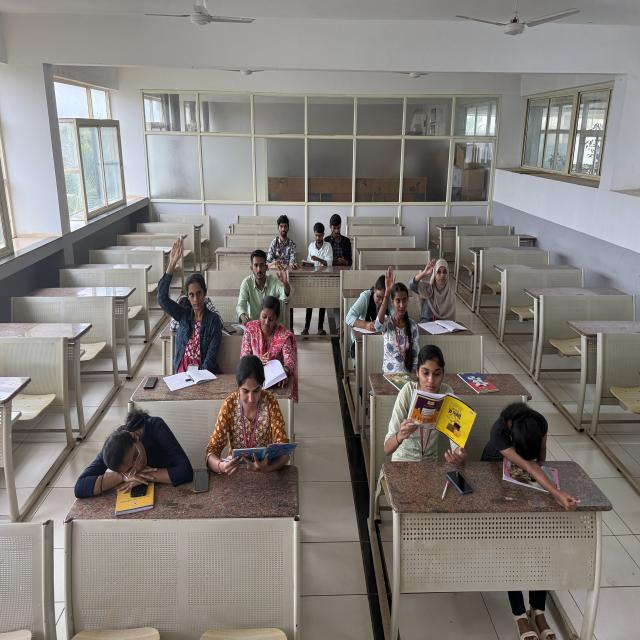Hand Rising: (153, 234, 223, 361), (373, 265, 421, 360), (238, 252, 294, 312), (412, 255, 460, 318)
Reading: (393, 344, 481, 474), (208, 356, 298, 476), (244, 297, 299, 384)
Sleeping: (82, 402, 193, 484), (485, 400, 556, 468)
Using Phone: (325, 215, 354, 269)
Writing: (346, 280, 392, 337), (305, 224, 335, 272)
